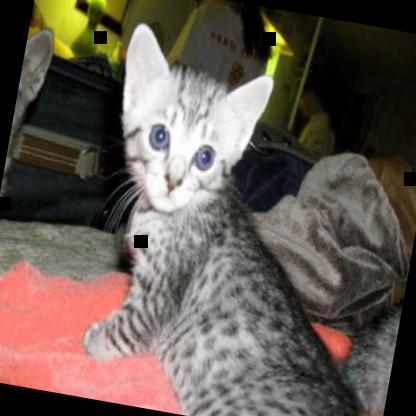cat: (64, 19, 415, 415), (0, 25, 57, 240)
